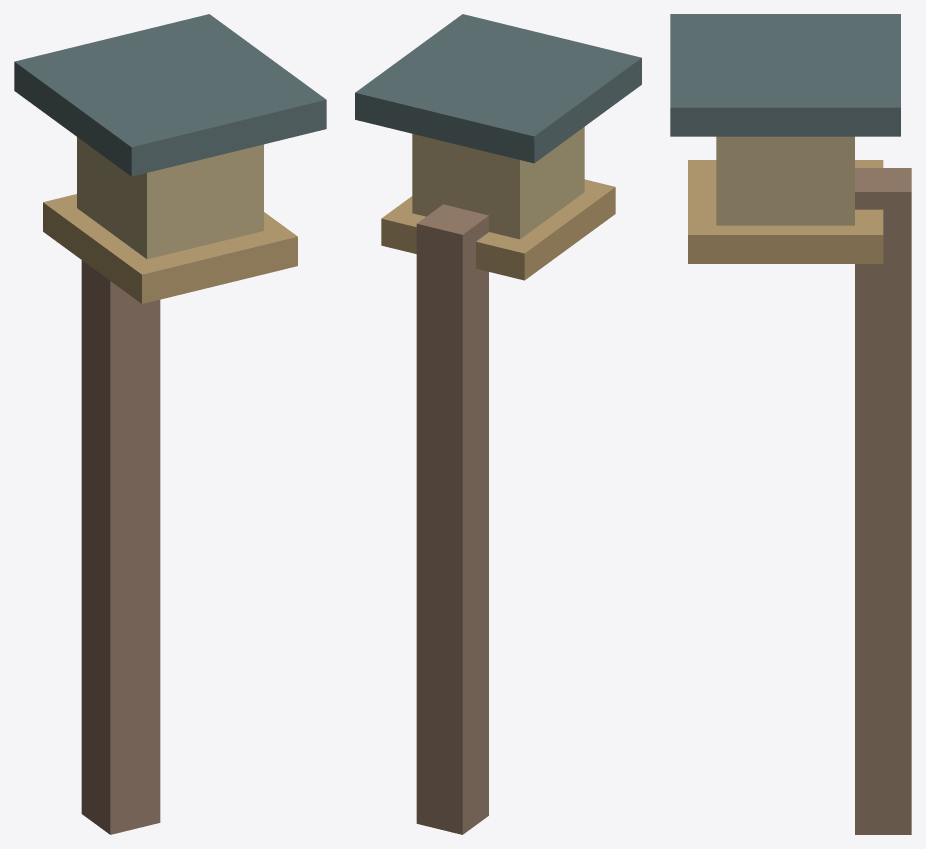
Rendered from stone_lantern.glb.
3 views of the same model, side by side, from view 1: azimuth 30°, elevation 25°; view 2: azimuth 150°, elevation 25°; view 3: azimuth 270°, elevation 25° (orthographic). The views are drawn at different scales.
Visible parts, largest first — view 1: stone_lantern_00_pole, stone_lantern_03_lamp_roof, stone_lantern_02_lamp, stone_lantern_01_lamp_base; view 2: stone_lantern_00_pole, stone_lantern_03_lamp_roof, stone_lantern_02_lamp, stone_lantern_01_lamp_base; view 3: stone_lantern_00_pole, stone_lantern_03_lamp_roof, stone_lantern_02_lamp, stone_lantern_01_lamp_base.
Part boxes in pixels (x1,y1,x2,y2): stone_lantern_00_pole: [81, 260, 160, 834]; stone_lantern_03_lamp_roof: [14, 14, 326, 176]; stone_lantern_02_lamp: [77, 137, 263, 259]; stone_lantern_01_lamp_base: [43, 194, 297, 303]; stone_lantern_00_pole: [416, 204, 488, 834]; stone_lantern_03_lamp_roof: [355, 14, 641, 163]; stone_lantern_02_lamp: [412, 127, 584, 239]; stone_lantern_01_lamp_base: [381, 179, 615, 280]; stone_lantern_00_pole: [855, 168, 911, 834]; stone_lantern_03_lamp_roof: [670, 14, 900, 136]; stone_lantern_02_lamp: [716, 136, 854, 225]; stone_lantern_01_lamp_base: [688, 160, 883, 263].
Bounding box in the file's own units: 1.25 × 4.74 × 1.36.
